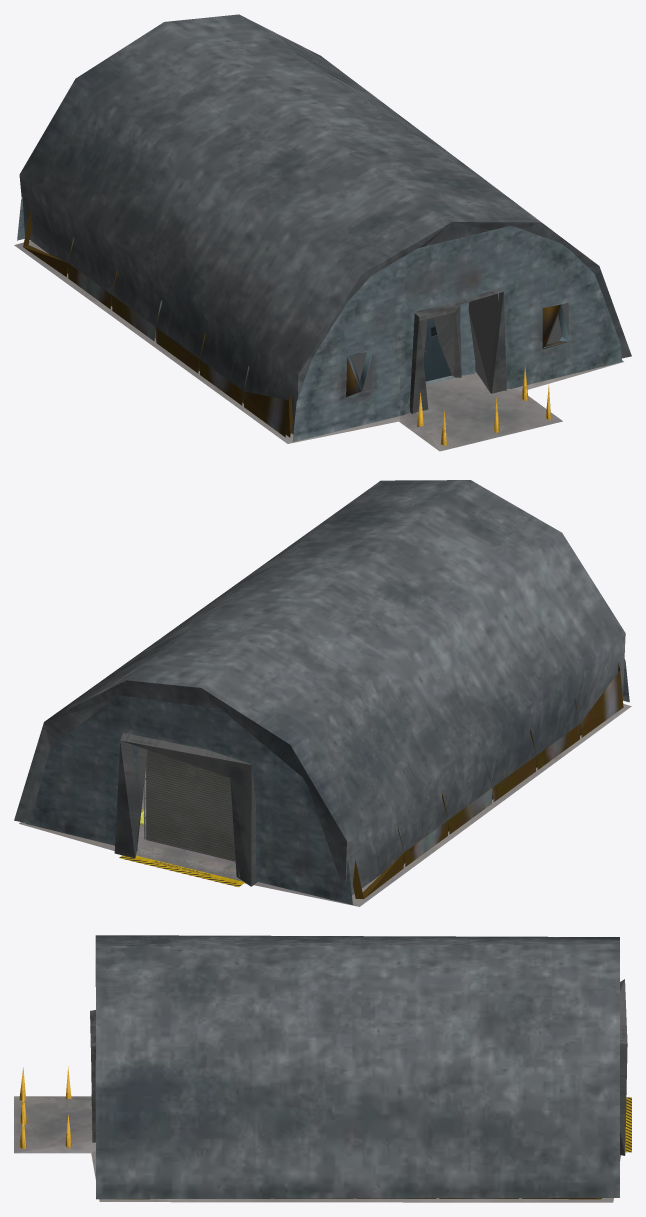
The model's file is base_hut_lod1.glb.
3 renders of one model, top to bottom at view 1: azimuth 30°, elevation 25°; view 2: azimuth 150°, elevation 25°; view 3: azimuth 270°, elevation 25°, orthographic. The views are drawn at different scales.
Parts seen in each view (by area): view 1: base_hut; view 2: base_hut; view 3: base_hut.
Boxes of the visible parts, x1=… form: base_hut: x1=14, y1=14, x2=631, y2=451; base_hut: x1=14, y1=480, x2=631, y2=906; base_hut: x1=14, y1=935, x2=631, y2=1202.
Bounding box in the file's own units: 11.8 × 6.04 × 19.49.
15 materials, 15 textured.
